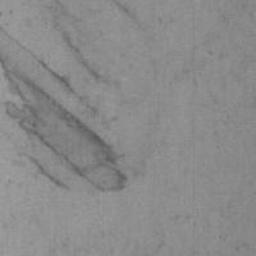Water spot: (0, 26, 129, 195), (38, 0, 118, 88), (111, 0, 142, 27)
